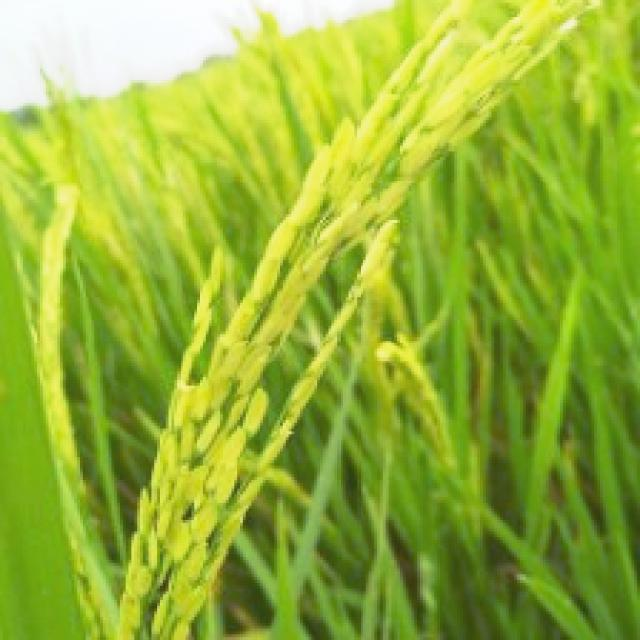health: (111, 1, 608, 640)
